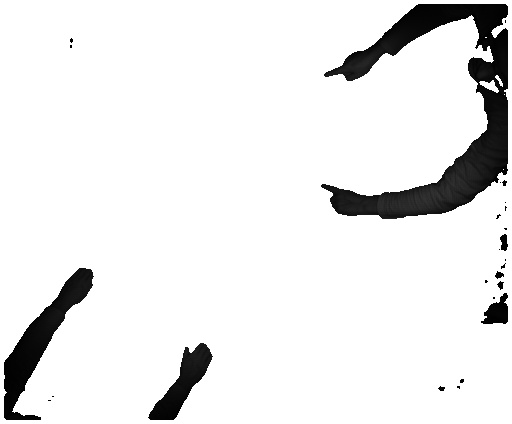hand: (320, 49, 377, 87), (181, 336, 215, 387), (320, 184, 371, 215), (62, 264, 95, 308)
